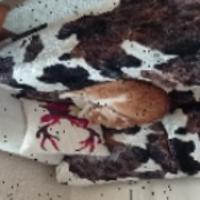asleep: (58, 76, 171, 132)
